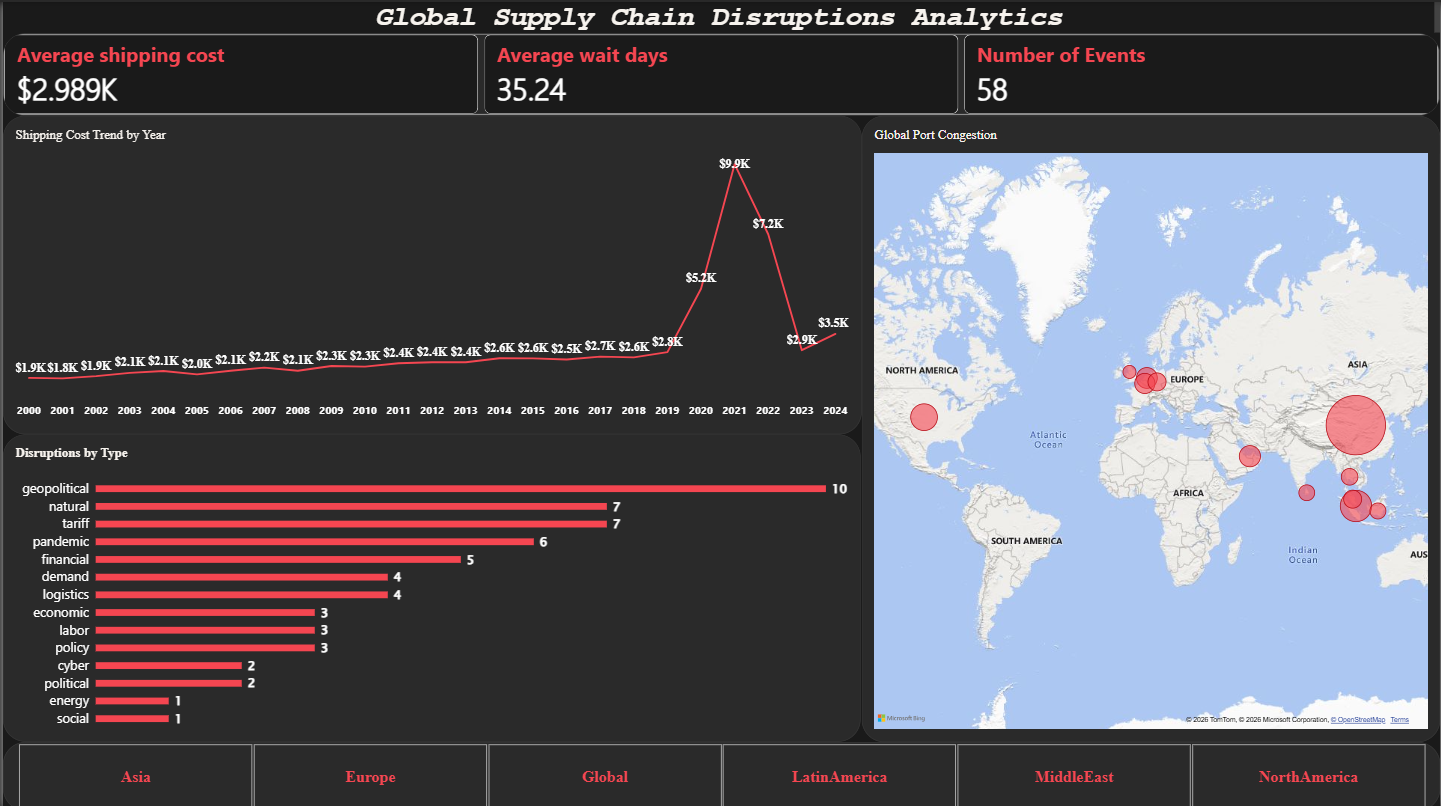

What the dashboard file says about the page in this screenshot:
{"tool":"powerbi","page":{"name":"Page 1","canvas":[1920,1080],"ordinal":0},"visuals":[{"type":"map","title":"Global Port Congestion","fields":{"Category":["public port_congestion.country"],"Size":["Sum(public port_congestion.vessels_at_anchor)"]},"box":[1147.1,151.9,773.1,836.6],"z":0},{"type":"cardVisual","fields":{"Data":["public shipping_rates.Avg_shipping_cost","Avg(public port_congestion.avg_wait_days)","CountNonNull(public disruption_events.event_name)"]},"box":[0,41.7,1920.2,110.2],"z":1000},{"type":"lineChart","title":"Shipping Cost Trend by Year","fields":{"Category":["public shipping_rates.year"],"Y":["public shipping_rates.Avg_shipping_cost"]},"box":[0,151.9,1147.1,425.8],"z":2000},{"type":"clusteredBarChart","title":"Disruptions by Type","fields":{"Category":["public disruption_events.disruption_type"],"Y":["public disruption_events.Total_disruptions"]},"box":[0,577.7,1145.5,410.8],"z":3000},{"type":"slicer","title":"Region","fields":{"Values":["public disruption_events.region_affected"]},"box":[0,988.3,1919.6,92],"z":4000},{"type":"textbox","box":[99.4,250.3,300,149.1],"z":5000},{"type":"textbox","box":[0,0,1920.2,41.7],"z":6000}]}

Visuals, with their boxes in screenshot pixels (x1, y1, x2, y2), scaled from the page's 1920x1080 canvas onto the 1441x806 screenshot:
"Global Port Congestion" map: (861, 113, 1440, 738)
cardVisual - public shipping_rates.Avg_shipping_cost x Avg(public port_congestion.avg_wait_days): (0, 31, 1440, 113)
"Shipping Cost Trend by Year" lineChart: (0, 113, 861, 431)
"Disruptions by Type" clusteredBarChart: (0, 431, 860, 738)
"Region" slicer: (0, 738, 1440, 805)
textbox: (75, 187, 300, 298)
textbox: (0, 0, 1440, 31)
